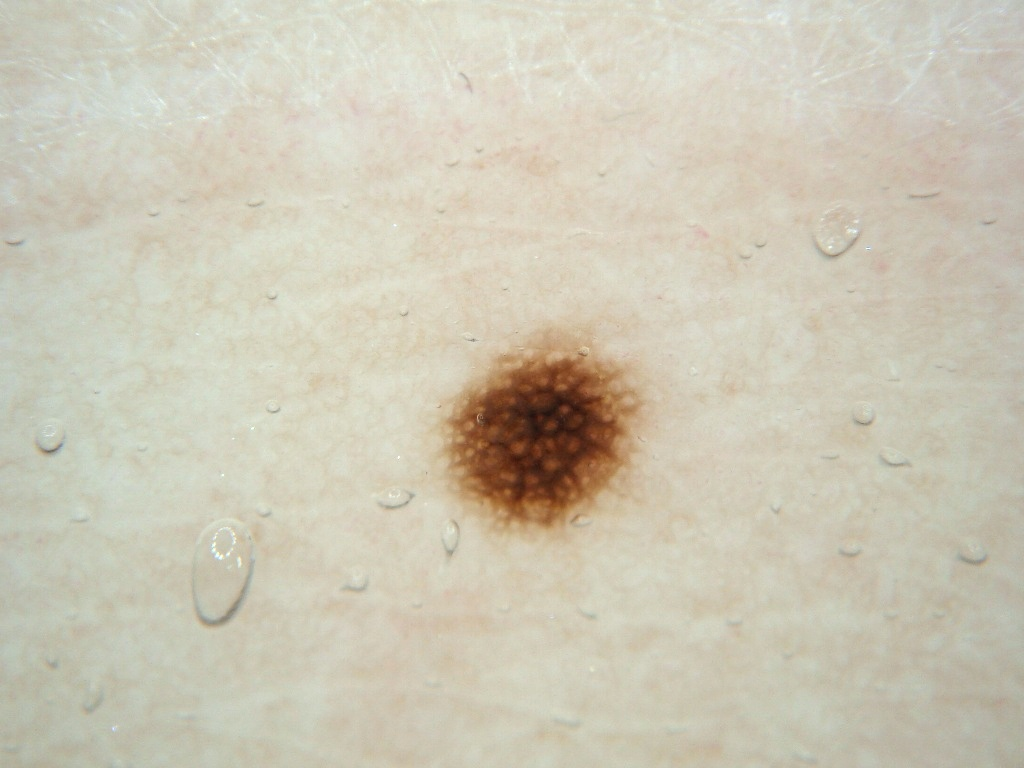Detected Lesion: (437, 340, 646, 532)
